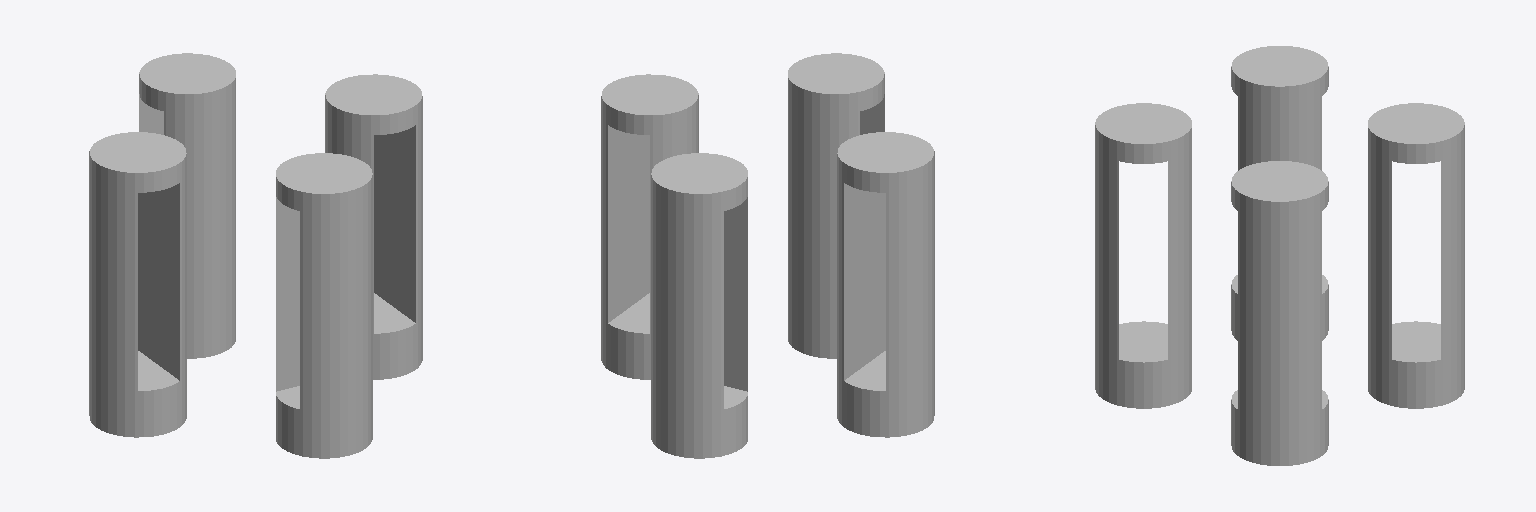
Rendered from solarCollectionTanks.obj.
The picture shows the model from 3 angles: view 1: azimuth 30°, elevation 25°; view 2: azimuth 150°, elevation 25°; view 3: azimuth 270°, elevation 25°; orthographic projection.
Parts seen in each view (by area): view 1: Cylinder.002; view 2: Cylinder.002; view 3: Cylinder.002.
Part boxes in pixels (left/top/right/bottom): Cylinder.002: left=89, top=53, right=422, bottom=458; Cylinder.002: left=601, top=53, right=934, bottom=458; Cylinder.002: left=1095, top=46, right=1464, bottom=465.
Bounding box in the file's own units: 0.95 × 0.75 × 0.95.